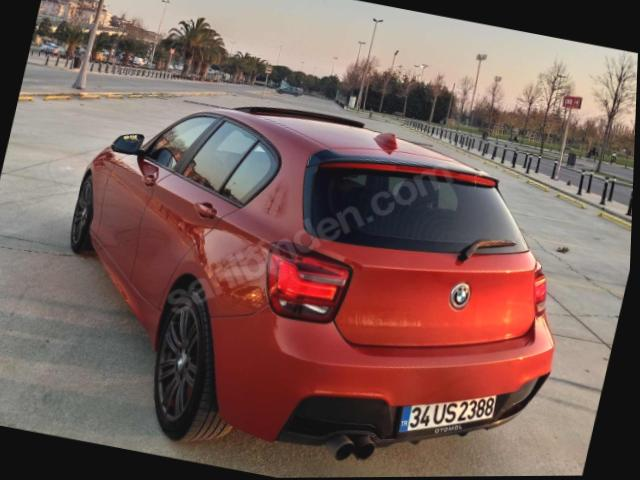plaka: (399, 395, 498, 432)
